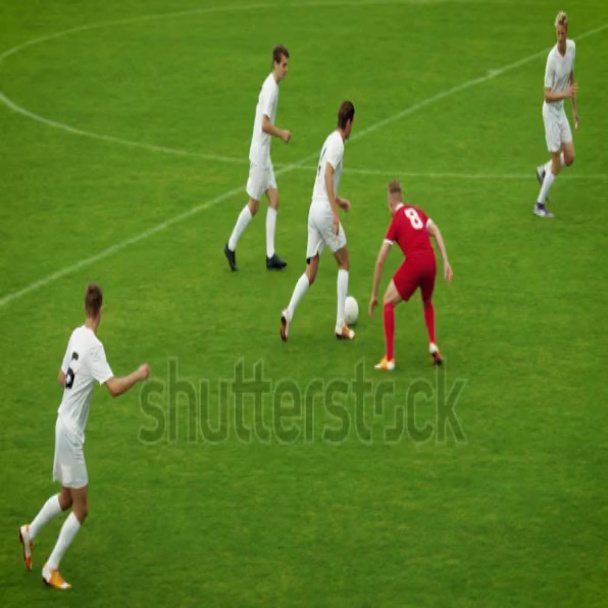ball: (344, 293, 359, 327)
